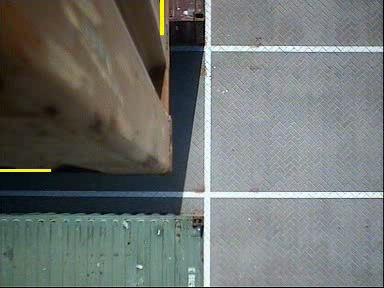groundmarker_2: (159, 87, 237, 137)
